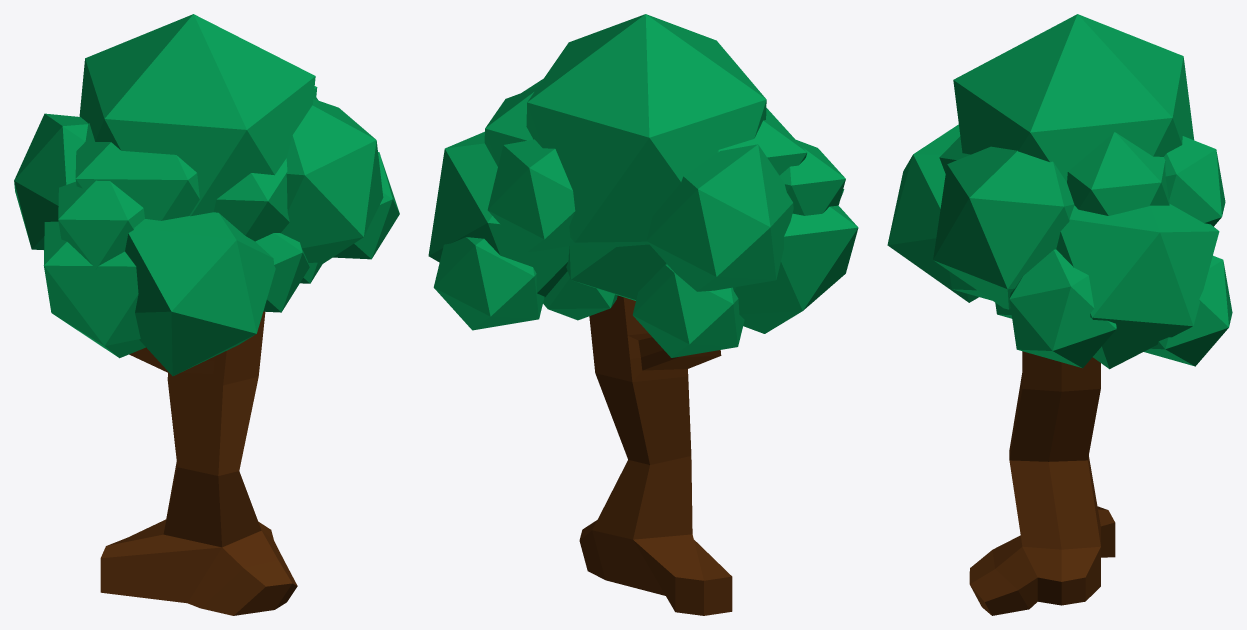
File: Arbolito2.fbx
3 views of the same model, side by side, from view 1: azimuth 30°, elevation 25°; view 2: azimuth 150°, elevation 25°; view 3: azimuth 270°, elevation 25° (orthographic). The views are drawn at different scales.
Visible parts, largest first — view 1: Arbolito2; view 2: Arbolito2; view 3: Arbolito2.
Boxes of the visible parts, left/top/right/bottom form: Arbolito2: left=14, top=14, right=399, bottom=615; Arbolito2: left=428, top=14, right=858, bottom=615; Arbolito2: left=887, top=14, right=1232, bottom=615.
Bounding box in the file's own units: 0.3025 × 0.4416 × 0.2395.
